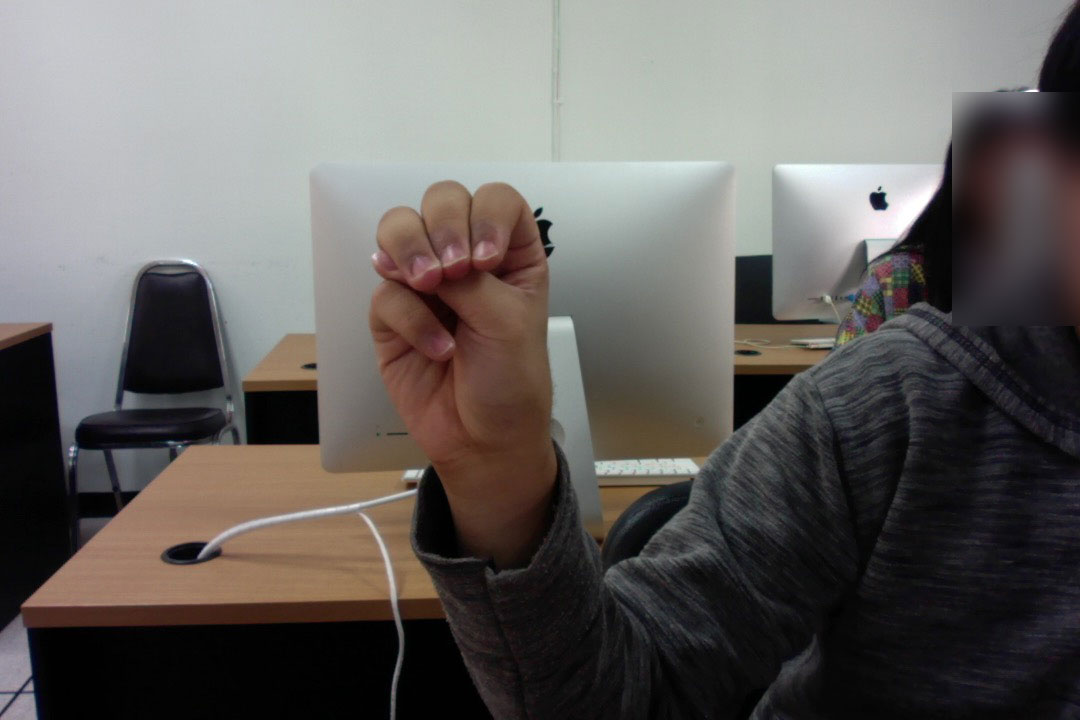mor: (363, 170, 561, 467)
